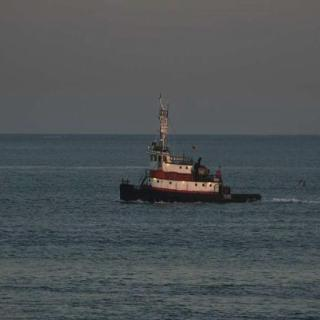Tug Boat: (122, 90, 262, 204)
